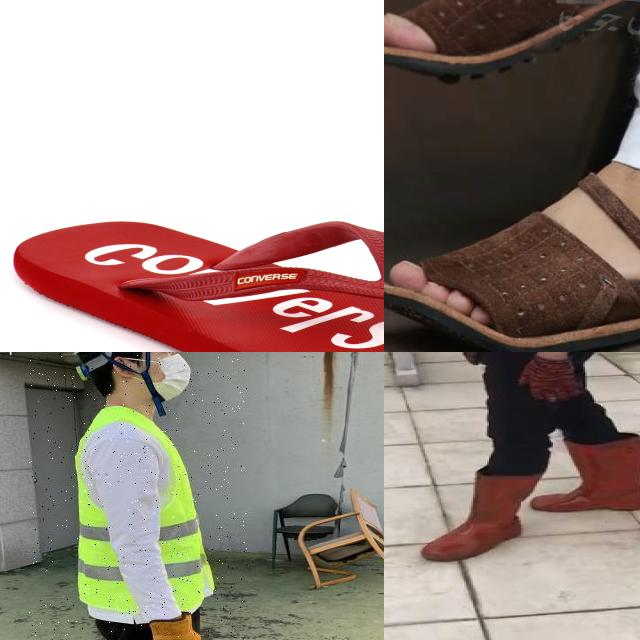No_Ear-Protection: (109, 353, 143, 382)
Sandals: (384, 138, 640, 352), (12, 219, 384, 352)
boots: (419, 473, 538, 562), (540, 437, 640, 512)
person: (29, 352, 247, 640), (415, 352, 640, 566)
vest: (76, 407, 215, 610)
